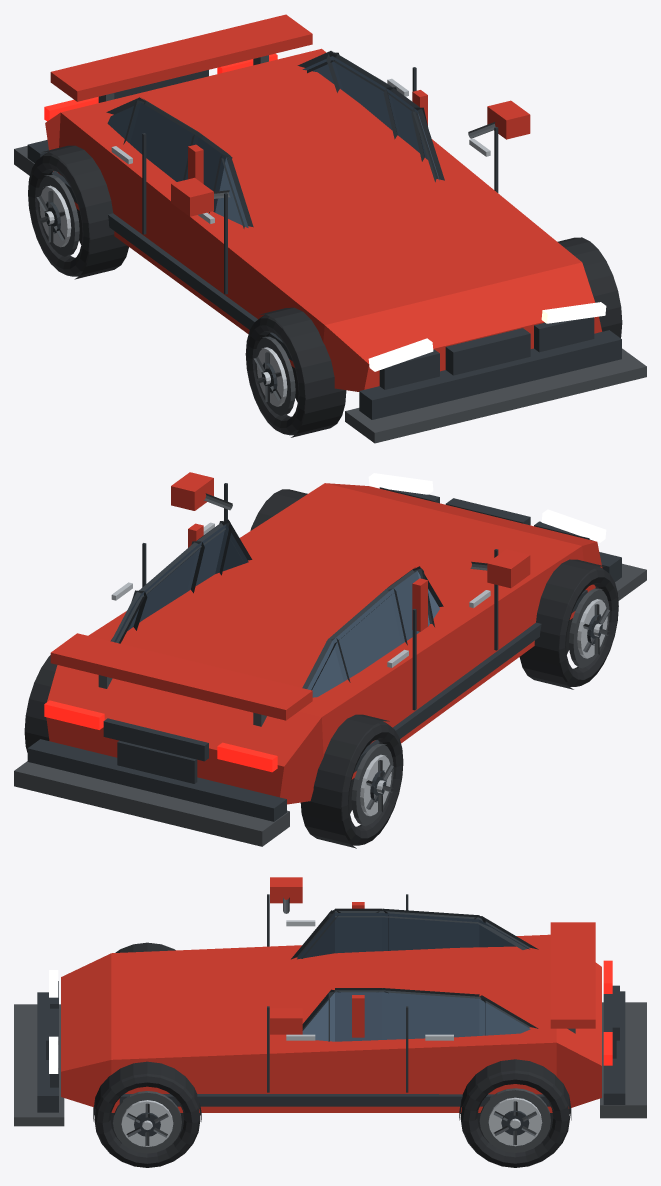
The model's file is car-sports.glb.
3 views of the same model, one above another, from view 1: azimuth 30°, elevation 25°; view 2: azimuth 150°, elevation 25°; view 3: azimuth 270°, elevation 25° (orthographic). The views are drawn at different scales.
Parts seen in each view (by area): view 1: body-detail, wheel-front-left, wheel-back-left, wheel-front-right; view 2: body-detail, wheel-back-left, wheel-front-left, wheel-back-right, wheel-front-right; view 3: body-detail, wheel-back-right, wheel-front-right.
Part boxes in pixels (left/top/right/bottom): body-detail: left=14, top=14, right=646, bottom=443; wheel-front-left: left=245, top=307, right=346, bottom=437; wheel-back-left: left=28, top=145, right=128, bottom=279; wheel-front-right: left=557, top=237, right=622, bottom=338; body-detail: left=14, top=472, right=646, bottom=846; wheel-back-left: left=300, top=714, right=403, bottom=848; wheel-front-left: left=519, top=559, right=618, bottom=689; wheel-back-right: left=24, top=655, right=57, bottom=752; wheel-front-right: left=250, top=489, right=307, bottom=530; body-detail: left=14, top=877, right=646, bottom=1126; wheel-back-right: left=459, top=1059, right=571, bottom=1167; wheel-front-right: left=93, top=1061, right=201, bottom=1167.
Size of the model in its own units: 1.85 by 0.97 by 3.51.
